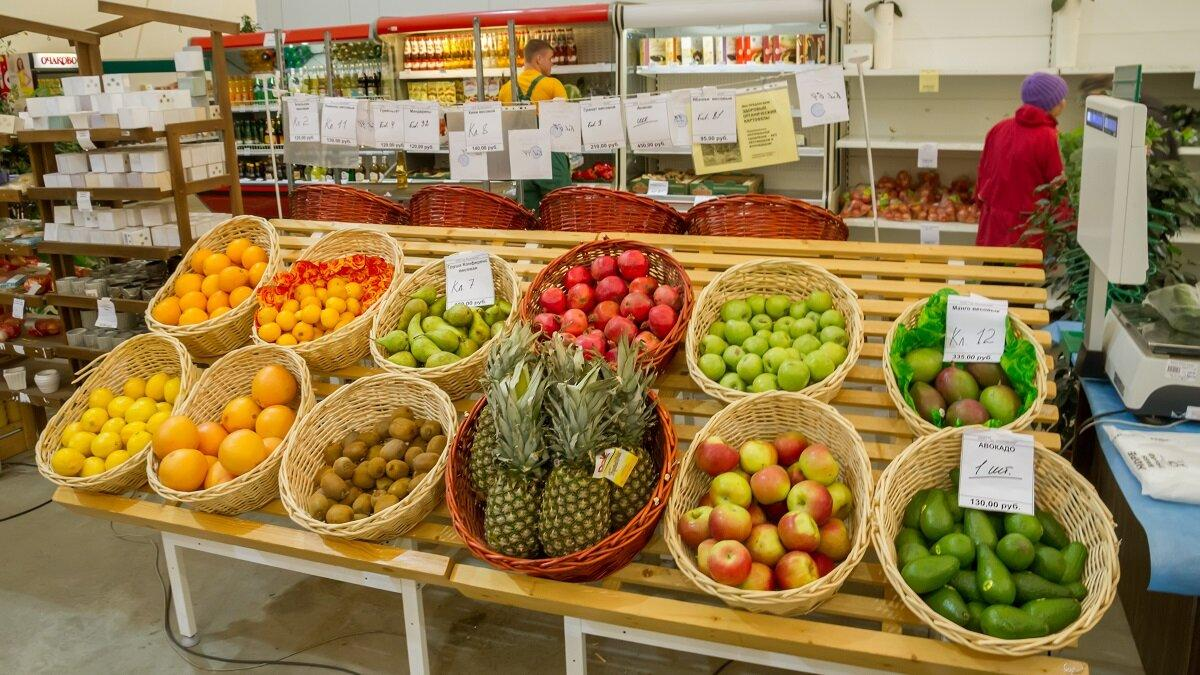green apple: (687, 397, 864, 601), (692, 272, 855, 385)
lemon: (49, 355, 178, 474)
mandarin: (259, 270, 371, 341)
orange: (152, 357, 303, 510), (148, 239, 269, 328)
pear: (373, 263, 511, 373)
pineapple: (463, 341, 665, 563)
pomegranate: (537, 245, 675, 356)
